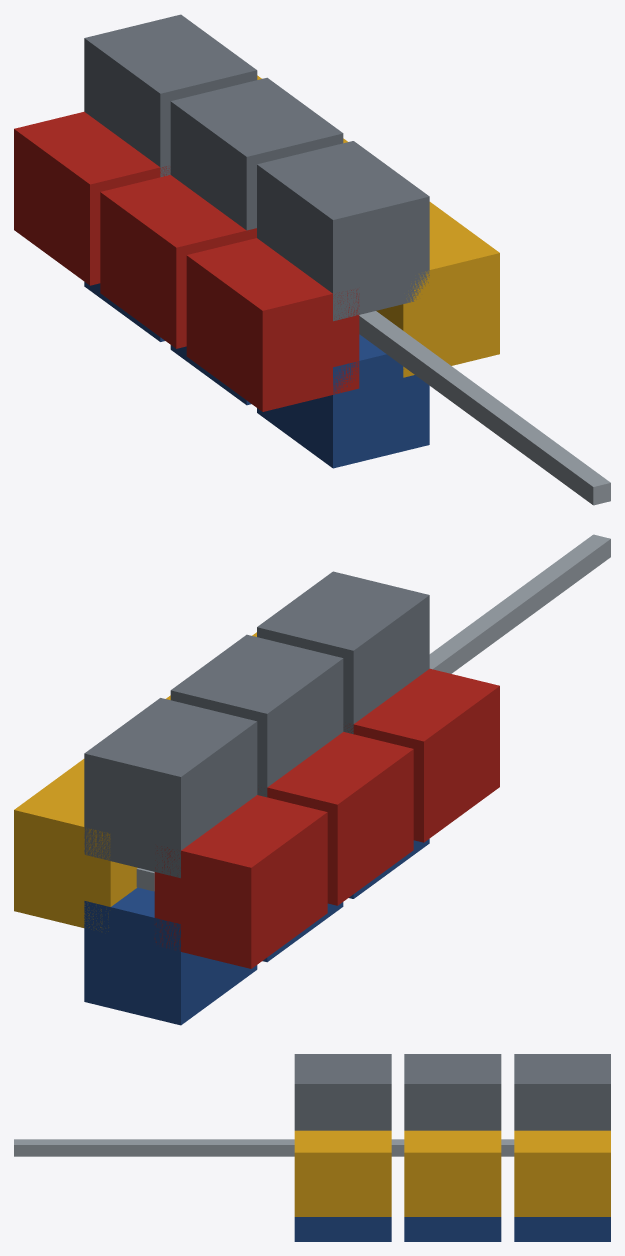
File: space_orbital_depot_t2.glb
The picture shows the model from 3 angles, top to bottom: view 1: azimuth 30°, elevation 25°; view 2: azimuth 150°, elevation 25°; view 3: azimuth 270°, elevation 25°; orthographic projection. The views are drawn at different scales.
Parts seen in each view (by area): view 1: body; view 2: body; view 3: body.
Boxes of the visible parts, box(x1,y1,x2,y2) form: body: box(14, 14, 610, 505); body: box(14, 534, 610, 1025); body: box(14, 1054, 610, 1241).
Size of what is drawn, in the model's own units: 5.4 by 5.4 by 18.5.
